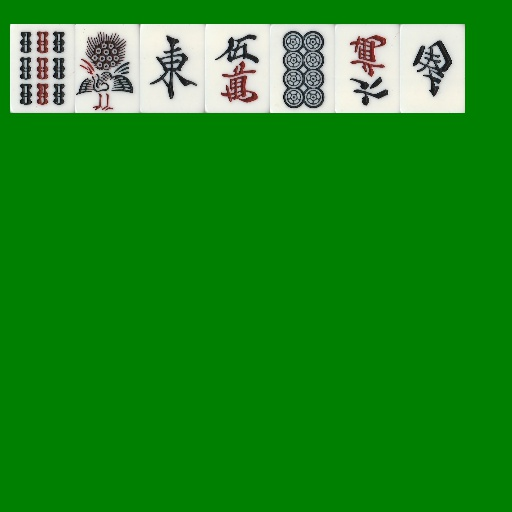1s: (75, 24, 140, 113)
5m: (205, 24, 270, 113)
6m: (335, 24, 400, 113)
8p: (270, 24, 335, 113)
9s: (10, 24, 75, 113)
east: (140, 24, 205, 113)
south: (400, 24, 465, 113)
